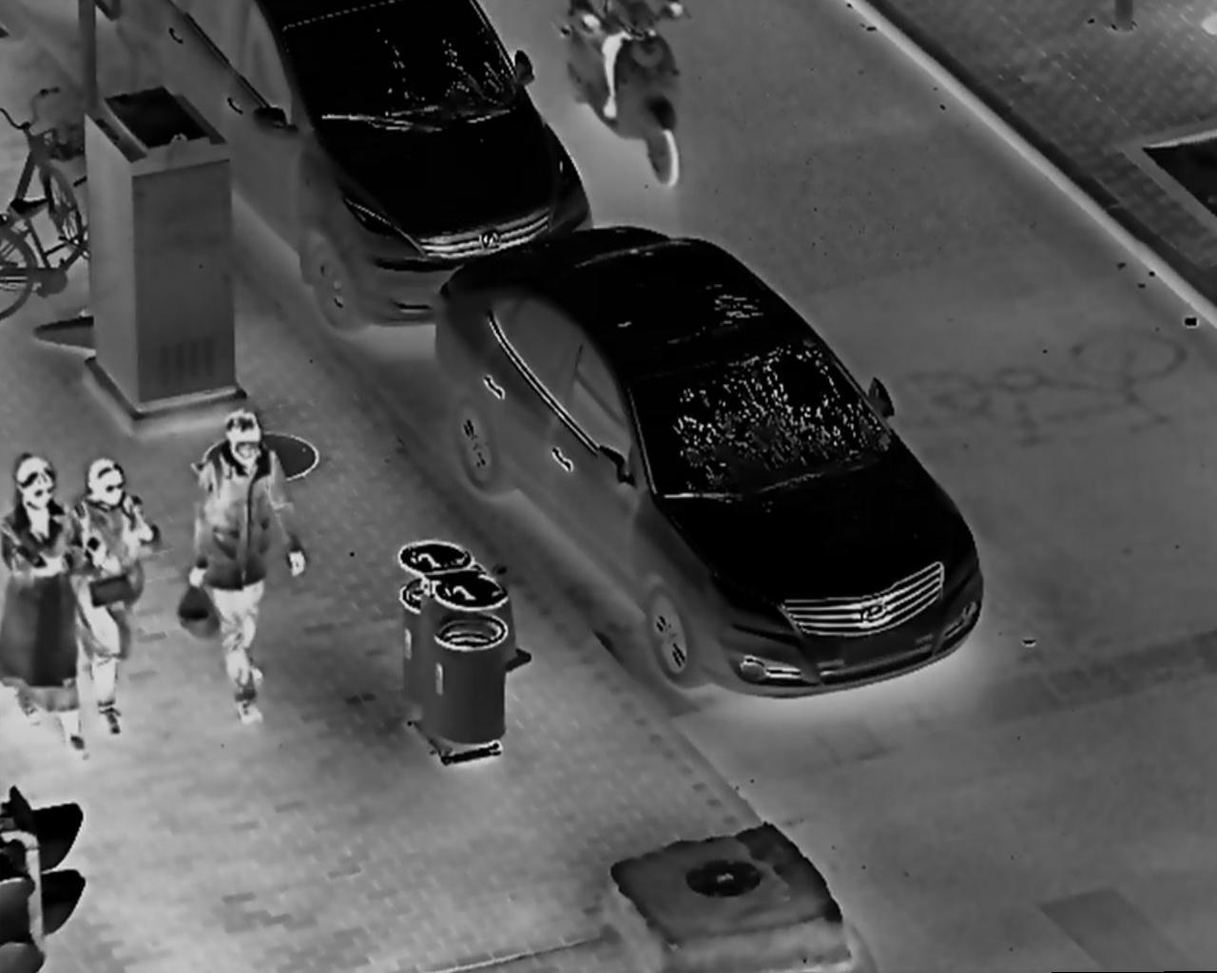person: (181, 409, 314, 732), (67, 460, 164, 748)
